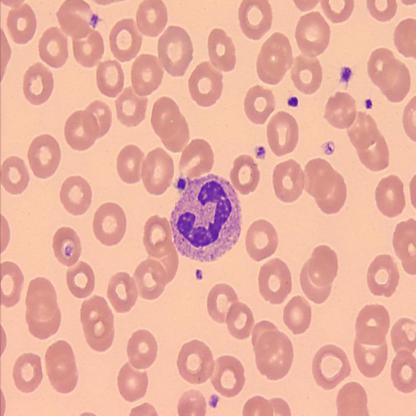Band Neutrophil: (168, 170, 244, 265)
